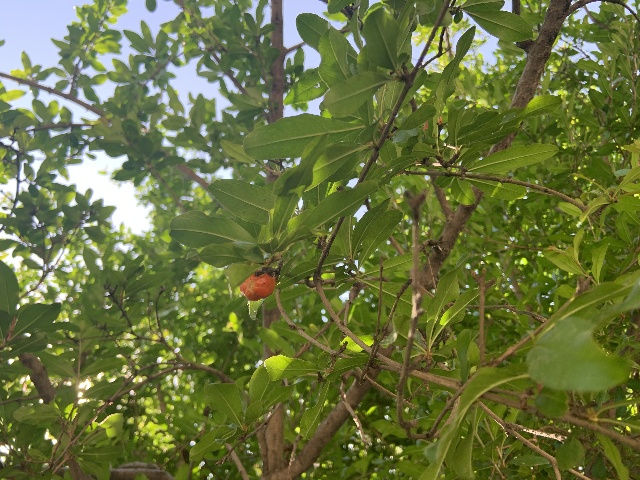bud: (240, 272, 275, 300)
